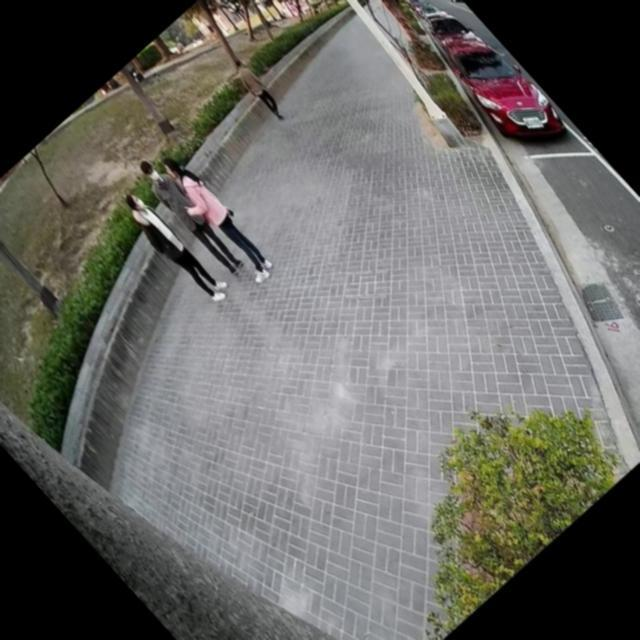person: (146, 144, 284, 291), (110, 180, 236, 314), (127, 148, 251, 281), (224, 51, 292, 126)
